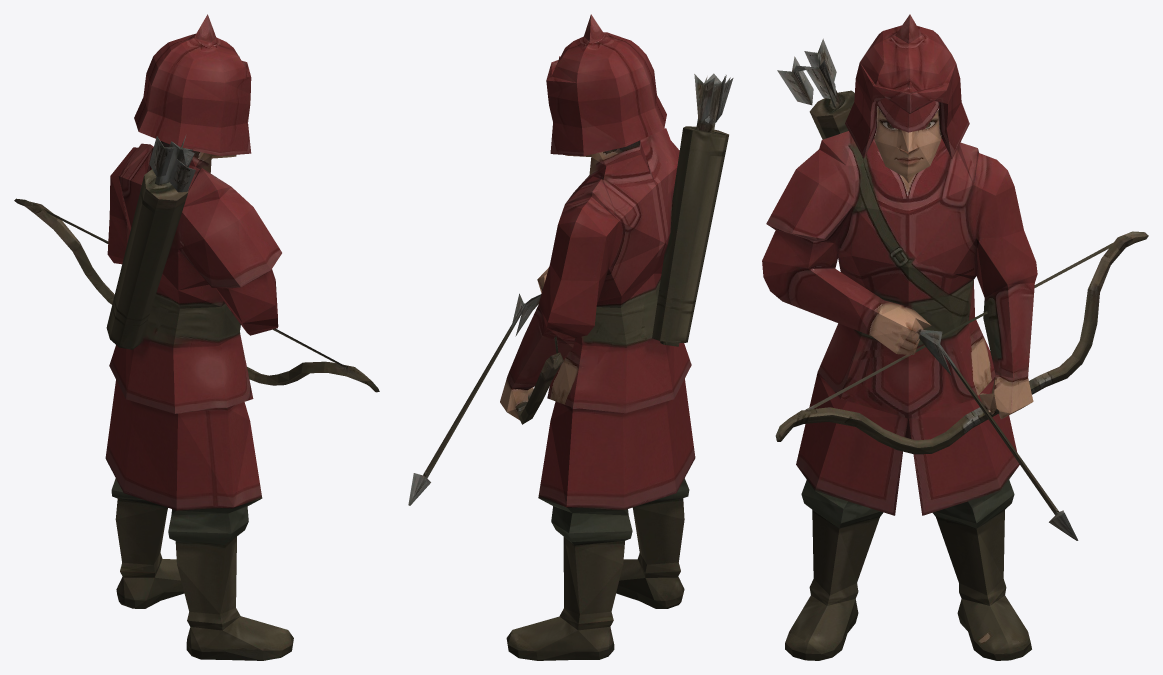
The model's file is unit_red.glb.
3 renders of one model, left to right at view 1: azimuth 30°, elevation 25°; view 2: azimuth 150°, elevation 25°; view 3: azimuth 270°, elevation 25°, orthographic. The views are drawn at different scales.
Visible parts, largest first — view 1: tripo_node_d03229cb-2823-4876-ae8c-5c4018a2ff48; view 2: tripo_node_d03229cb-2823-4876-ae8c-5c4018a2ff48; view 3: tripo_node_d03229cb-2823-4876-ae8c-5c4018a2ff48.
Boxes of the visible parts, bbox=[...] form: tripo_node_d03229cb-2823-4876-ae8c-5c4018a2ff48: bbox=[14, 14, 379, 660]; tripo_node_d03229cb-2823-4876-ae8c-5c4018a2ff48: bbox=[408, 14, 733, 660]; tripo_node_d03229cb-2823-4876-ae8c-5c4018a2ff48: bbox=[762, 14, 1148, 660].
Bounding box in the file's own units: 0.3574 × 0.998 × 0.5566.
1 material, 1 textured.
